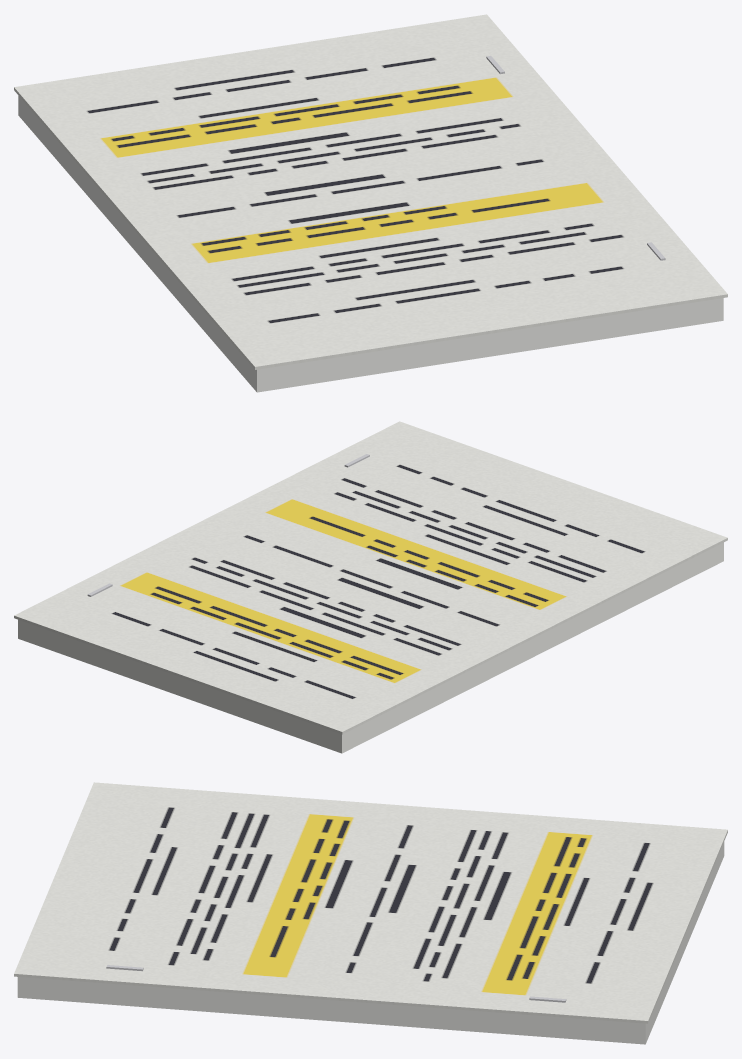
Rendered from escena.casa.libreto_teatro.fbx.
The picture shows the model from 3 angles, top to bottom: view 1: azimuth 30°, elevation 25°; view 2: azimuth 150°, elevation 25°; view 3: azimuth 270°, elevation 25°; orthographic projection. The views are drawn at different scales.
Visible parts, largest first — view 1: Libreto, Hojas; view 2: Libreto, Hojas; view 3: Libreto, Hojas.
Part boxes in pixels (x1,y1,x2,y2): Libreto: (14,14,727,369); Hojas: (18,95,723,392); Libreto: (14,421,727,734); Hojas: (18,542,723,753); Libreto: (14,782,727,1023); Hojas: (17,842,724,1044).
Size of the model in its own units: 0.1842 by 0.0096 by 0.2329.
Materials: 3 (1 with a texture image).
